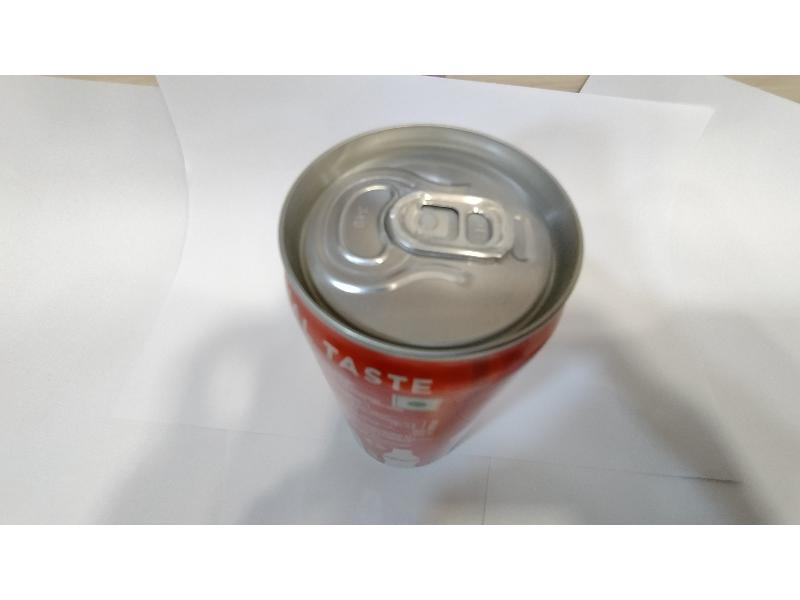can: (275, 118, 585, 446)
